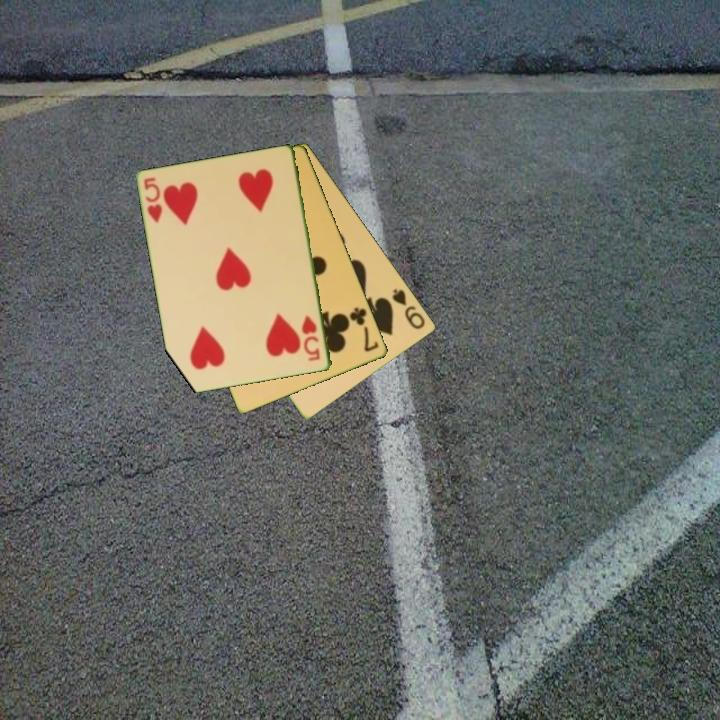5h: (141, 174, 166, 226), (299, 312, 323, 364)
7c: (346, 303, 382, 355)
9s: (389, 285, 428, 332)
